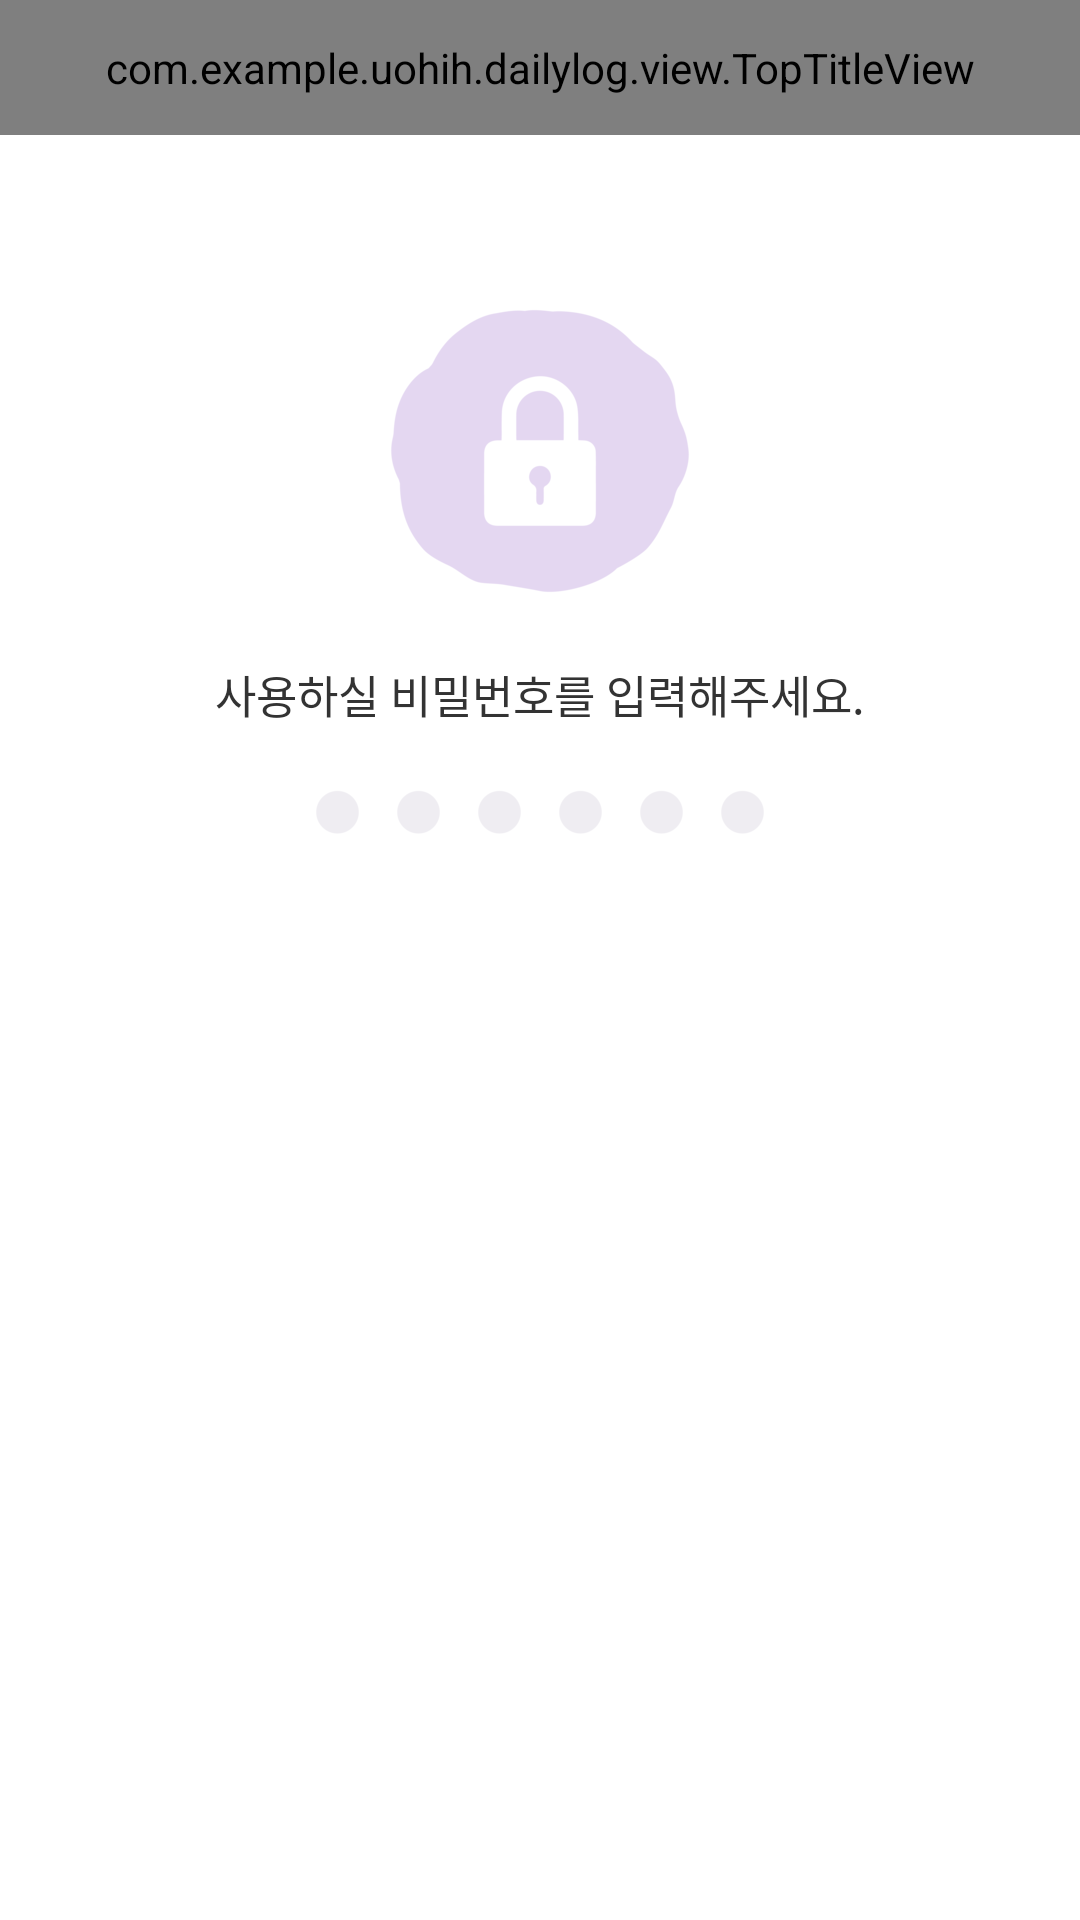

Locate icon controls on the screen. Image size 1080w x 1920h, boxes as box=[x1, y1, x2, y2].
lock: box=[391, 310, 689, 592]
